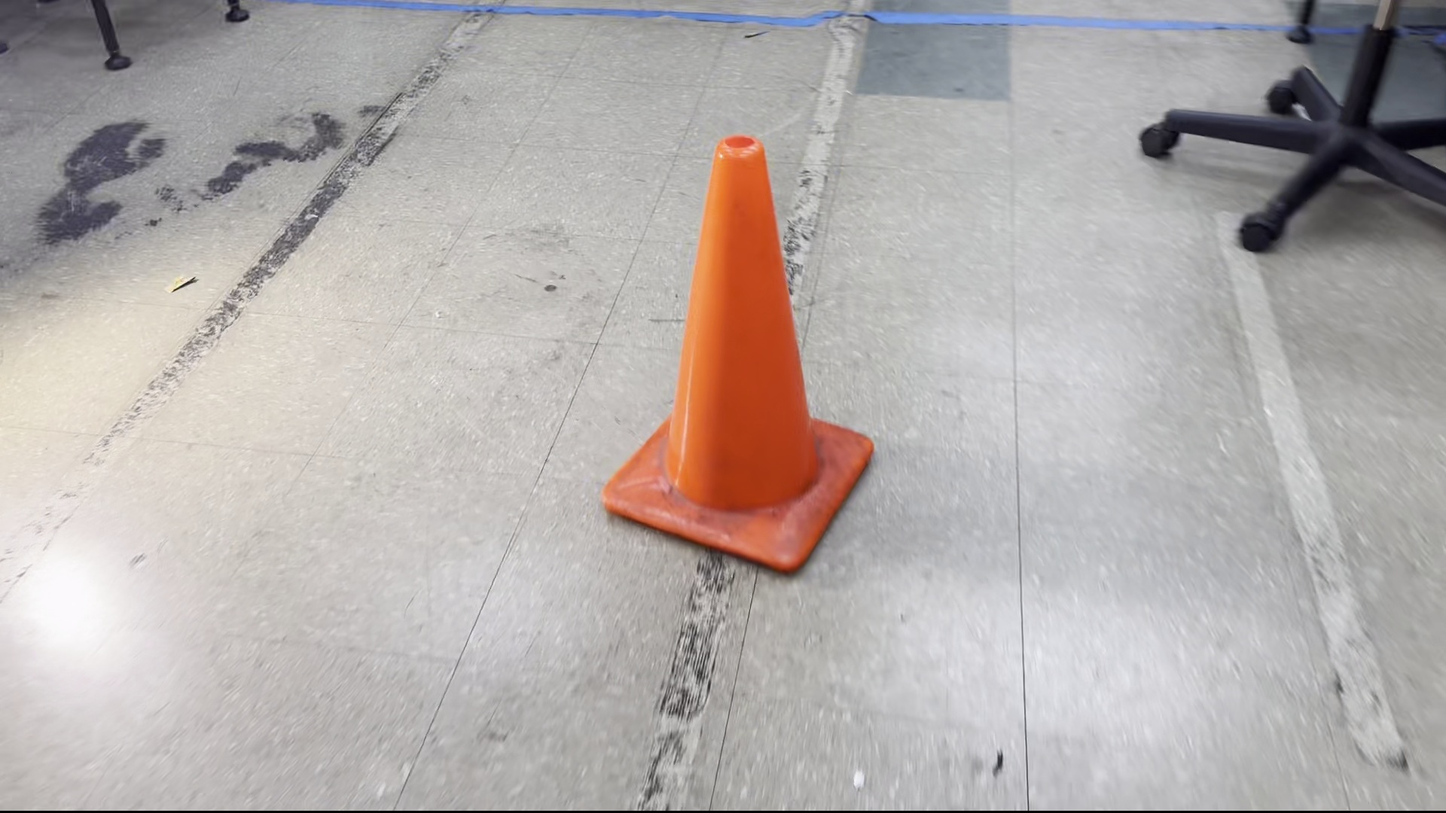traffic_cone: (601, 133, 875, 574)
